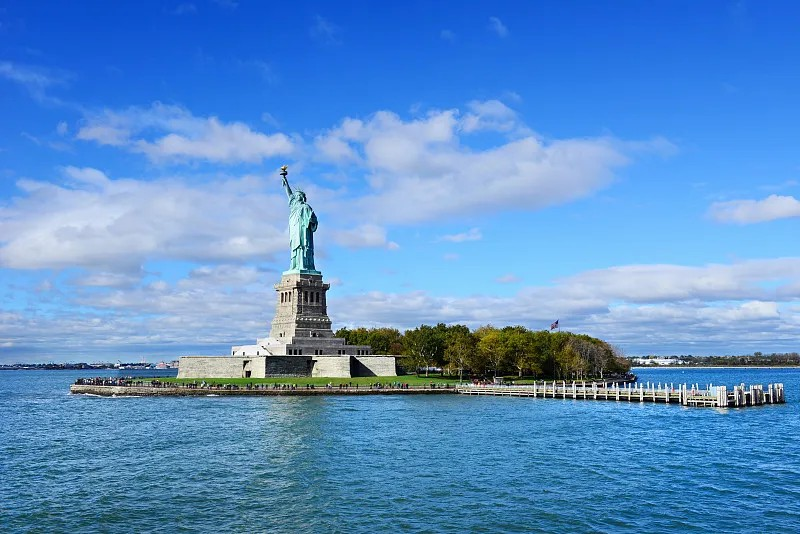SL: (268, 164, 333, 337)
